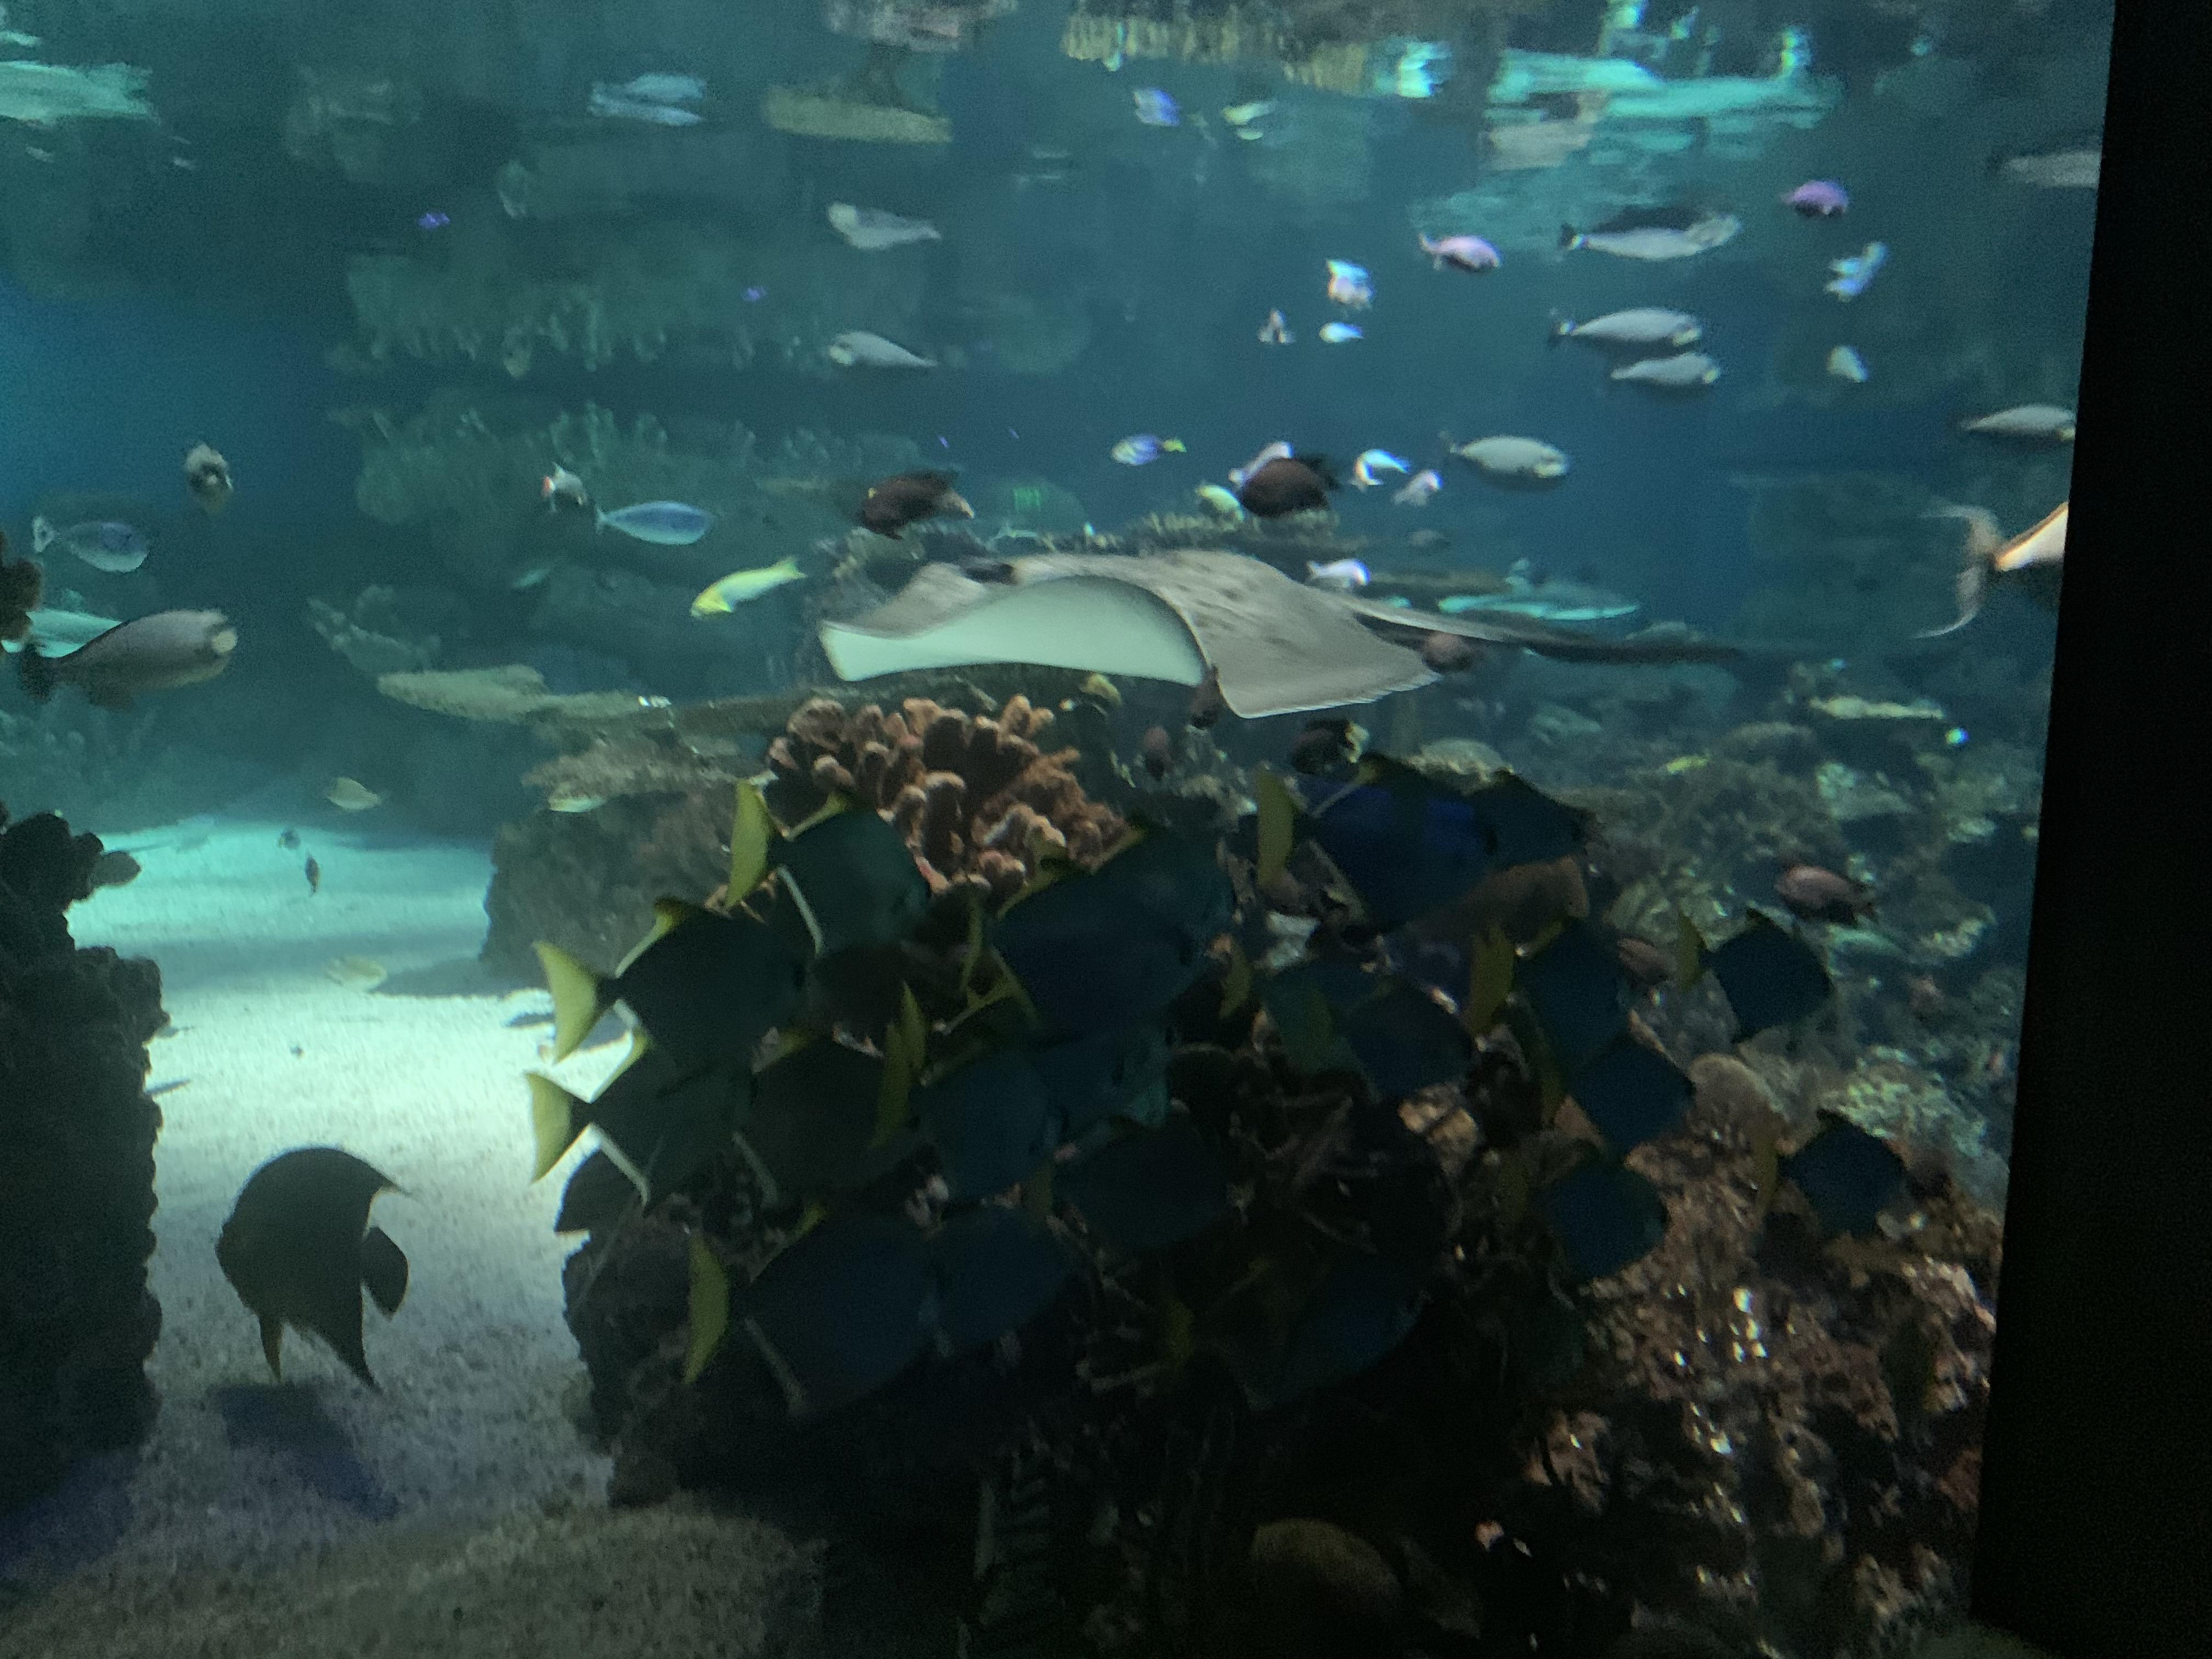fish: (662, 1197, 939, 1425), (1163, 1188, 1425, 1424), (523, 871, 796, 1086), (206, 1138, 418, 1398), (695, 1012, 930, 1223), (958, 847, 1200, 1049), (1245, 746, 1494, 941), (505, 1030, 751, 1220), (860, 1155, 1089, 1358), (1014, 1091, 1249, 1269), (1254, 1073, 1463, 1263), (711, 777, 937, 950), (874, 1000, 1073, 1187), (16, 596, 246, 739), (1667, 884, 1841, 1056), (1216, 924, 1388, 1093), (371, 647, 679, 741), (758, 915, 949, 1063), (1759, 1094, 1939, 1249), (1318, 955, 1472, 1127), (1501, 906, 1646, 1079), (1432, 765, 1597, 904), (1519, 1140, 1679, 1274), (1454, 1263, 1595, 1410), (1559, 1030, 1700, 1155), (1952, 491, 2095, 594), (1764, 840, 1881, 945), (1442, 415, 1578, 502), (1562, 200, 1743, 265), (681, 552, 815, 627), (1550, 301, 1707, 361), (587, 495, 719, 559), (31, 514, 153, 577), (1233, 451, 1343, 519), (1608, 350, 1724, 411), (1961, 396, 2085, 453), (829, 322, 941, 380), (829, 202, 944, 253), (181, 430, 247, 518), (1418, 232, 1503, 279), (536, 458, 601, 519), (1778, 176, 1851, 221), (317, 772, 381, 812)
stingray: (815, 526, 1446, 725)
